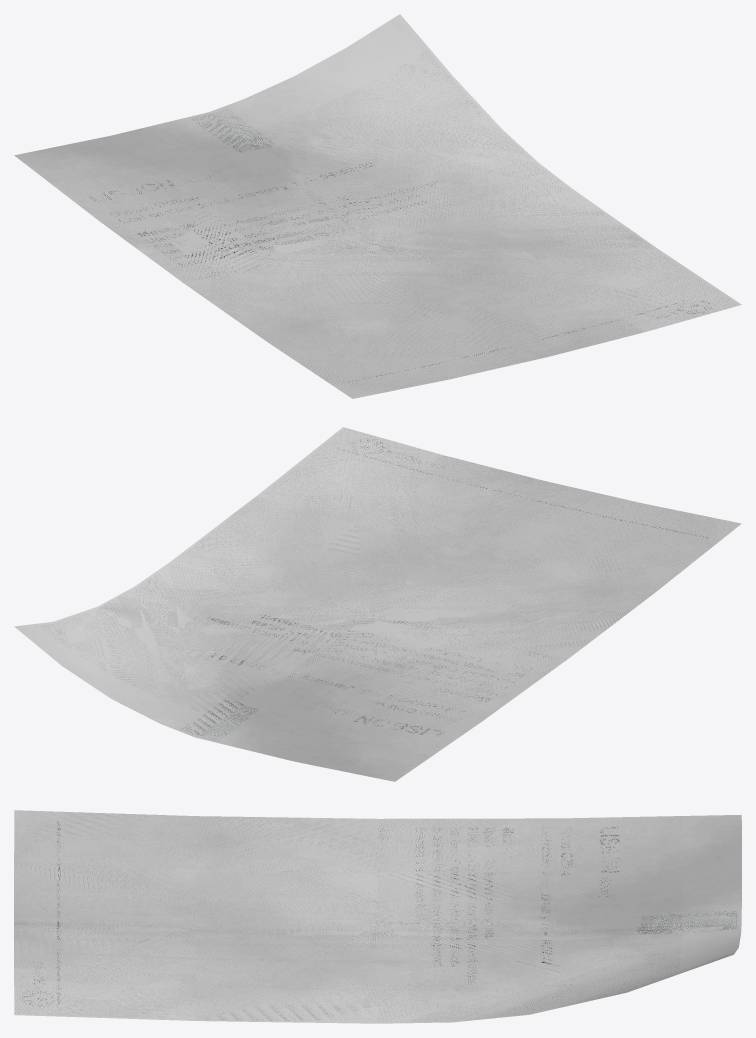
The model's file is upsilon_citynotes_lisbon.dae.
3 views of the same model, one above another, from view 1: azimuth 30°, elevation 25°; view 2: azimuth 150°, elevation 25°; view 3: azimuth 270°, elevation 25° (orthographic). The views are drawn at different scales.
Visible parts, largest first — view 1: lisbon; view 2: lisbon; view 3: lisbon.
Boxes of the visible parts, x1,y1,x2,y2 form: lisbon: (14, 14, 741, 398); lisbon: (14, 427, 741, 781); lisbon: (14, 810, 741, 1023).
Bounding box in the file's own units: 0.3849 × 0.0598 × 0.5802.
